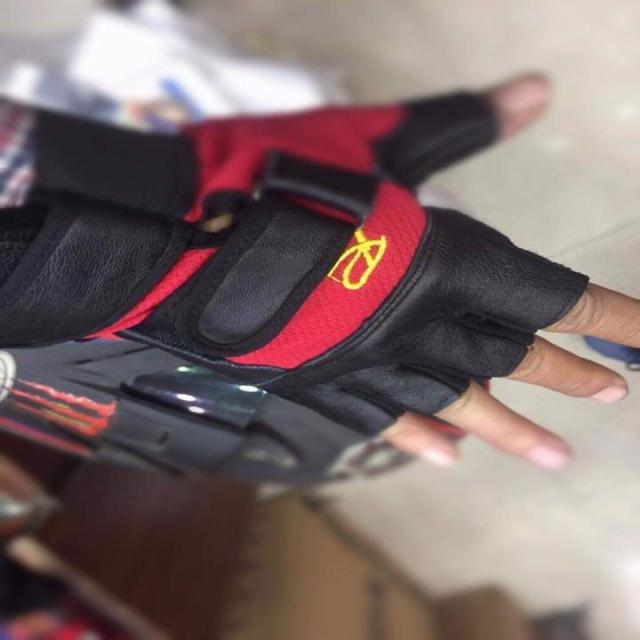gloved_hand: (1, 69, 640, 476)
